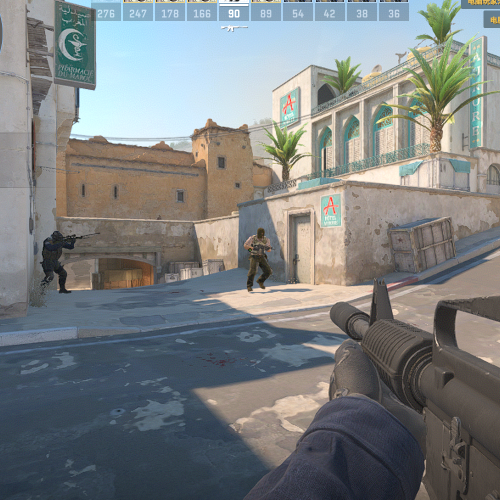ct_body: (42, 230, 72, 296)
ct_head: (49, 230, 65, 242)
t_body: (243, 228, 273, 293)
t_head: (256, 226, 267, 241)
